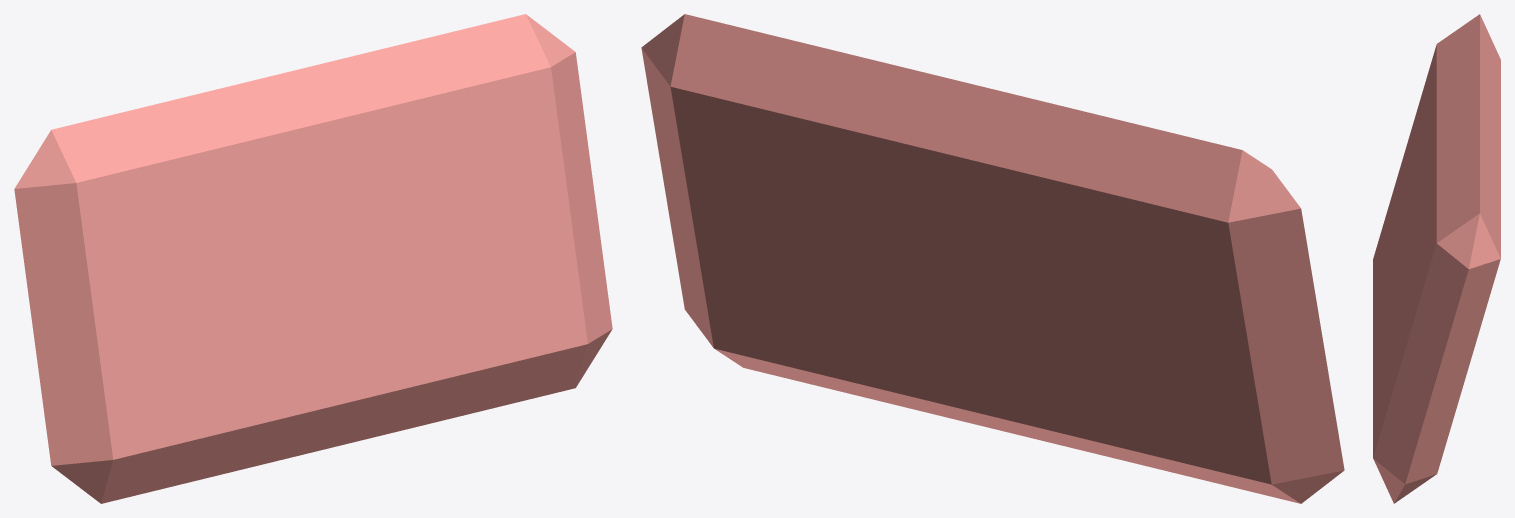
Rendered from pillowLong.glb.
3 views of the same model, side by side, from view 1: azimuth 30°, elevation 25°; view 2: azimuth 150°, elevation 25°; view 3: azimuth 270°, elevation 25° (orthographic). The views are drawn at different scales.
Parts seen in each view (by area): view 1: pillowLong(Clone); view 2: pillowLong(Clone); view 3: pillowLong(Clone).
Part boxes in pixels (bbox=[...]): pillowLong(Clone): bbox=[14, 14, 612, 503]; pillowLong(Clone): bbox=[641, 14, 1344, 503]; pillowLong(Clone): bbox=[1373, 14, 1500, 503].
Bounding box in the file's own units: 0.7847 × 0.451 × 0.1796.
1 material, 1 textured.
